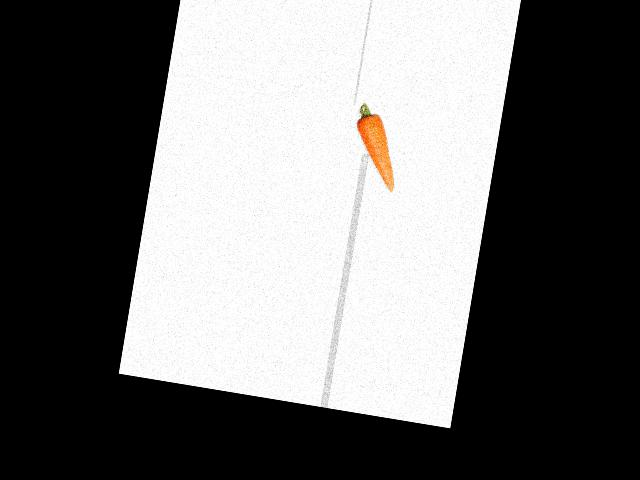carrot: (345, 102, 408, 193)
